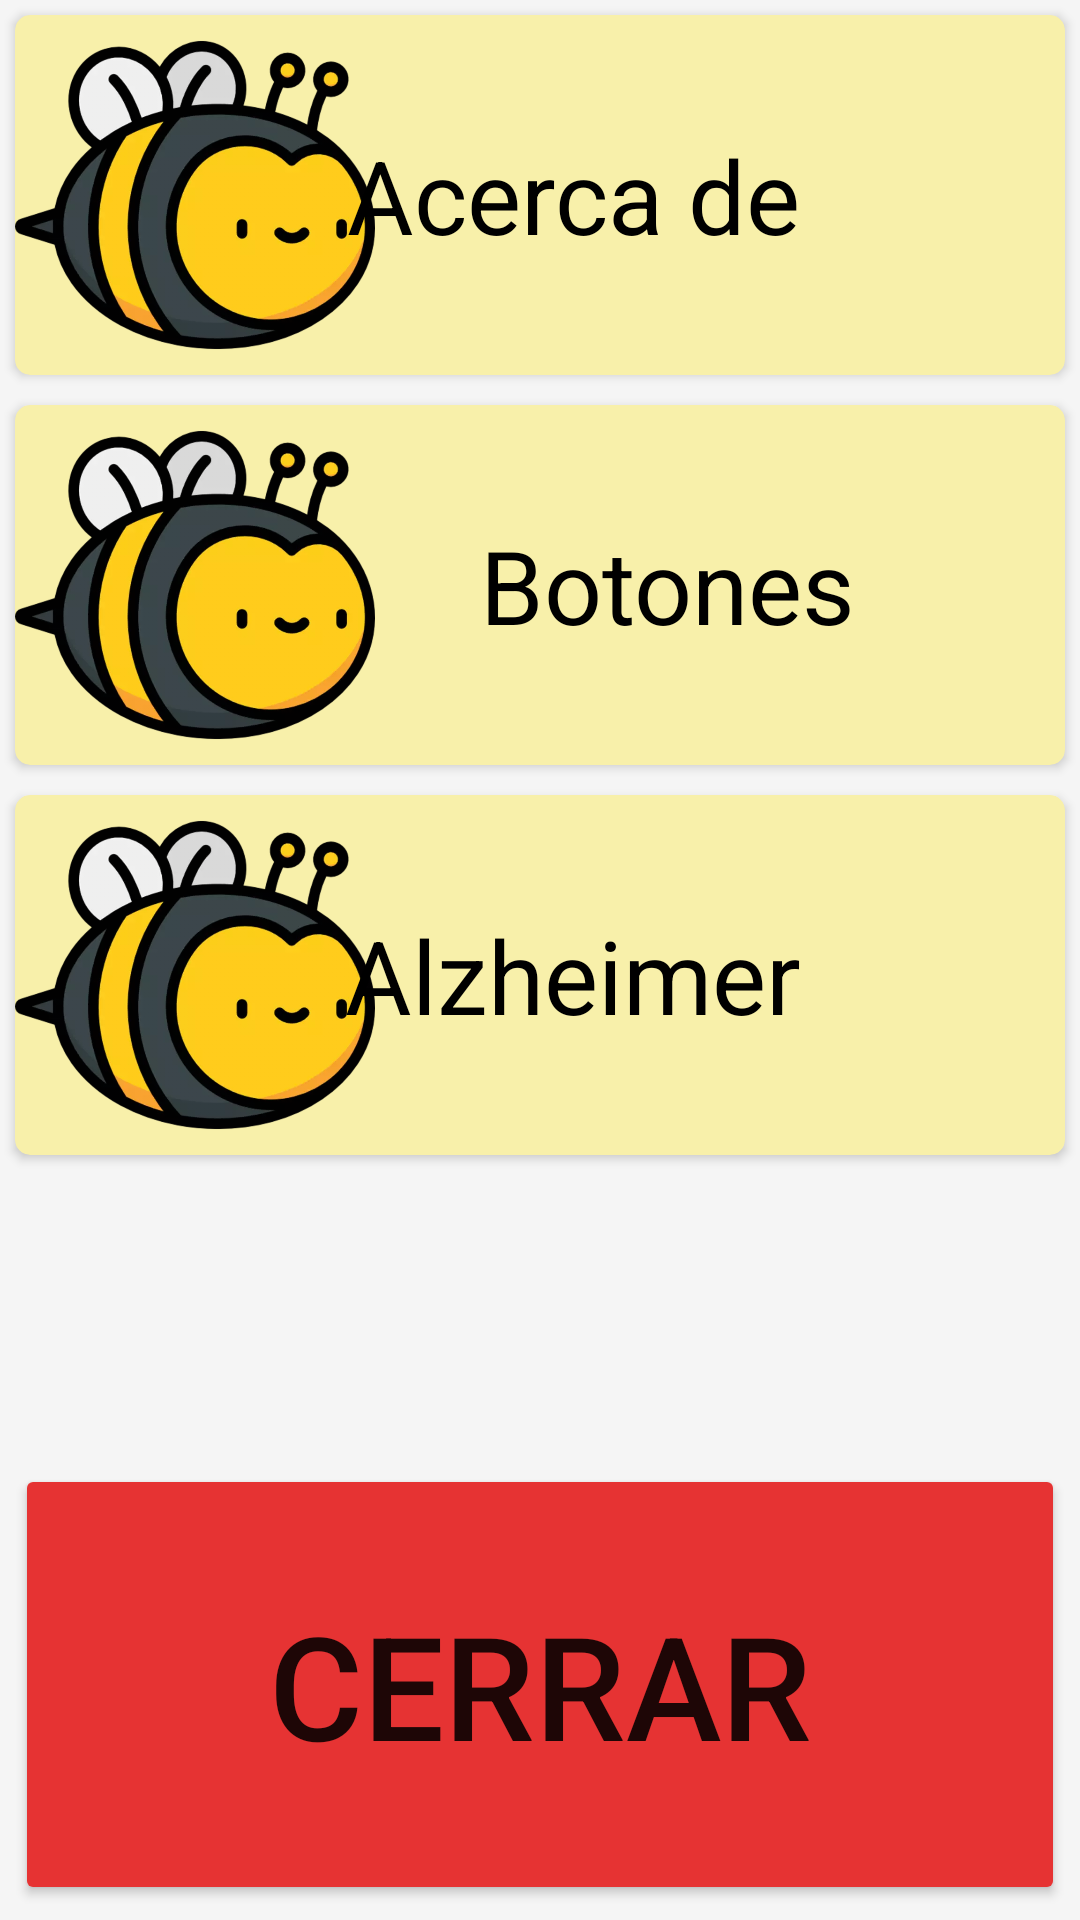

Where to tap for icons on this 1080px x 1920px app screen, as point (x, y):
bee: point (195, 195), point (195, 585), point (195, 975)
